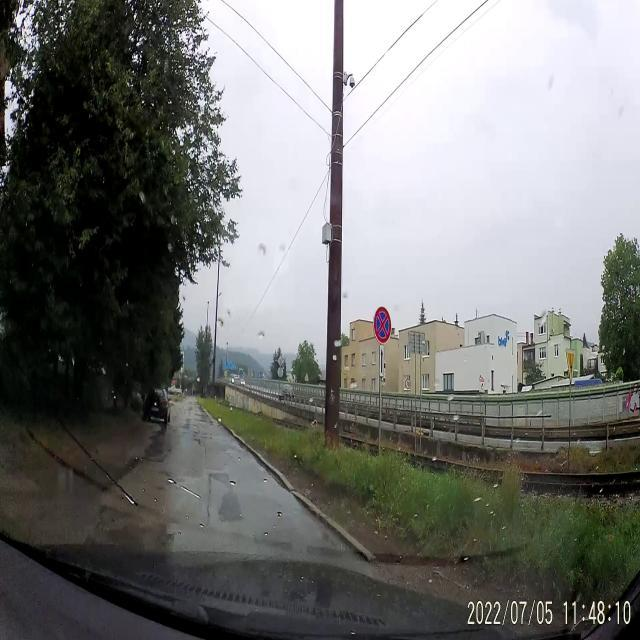Pothole: (96, 495, 130, 531)
